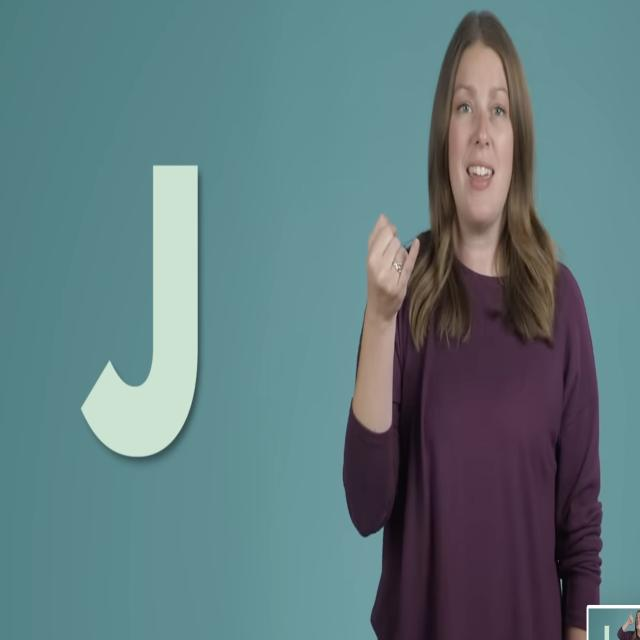J: (352, 199, 431, 341)
